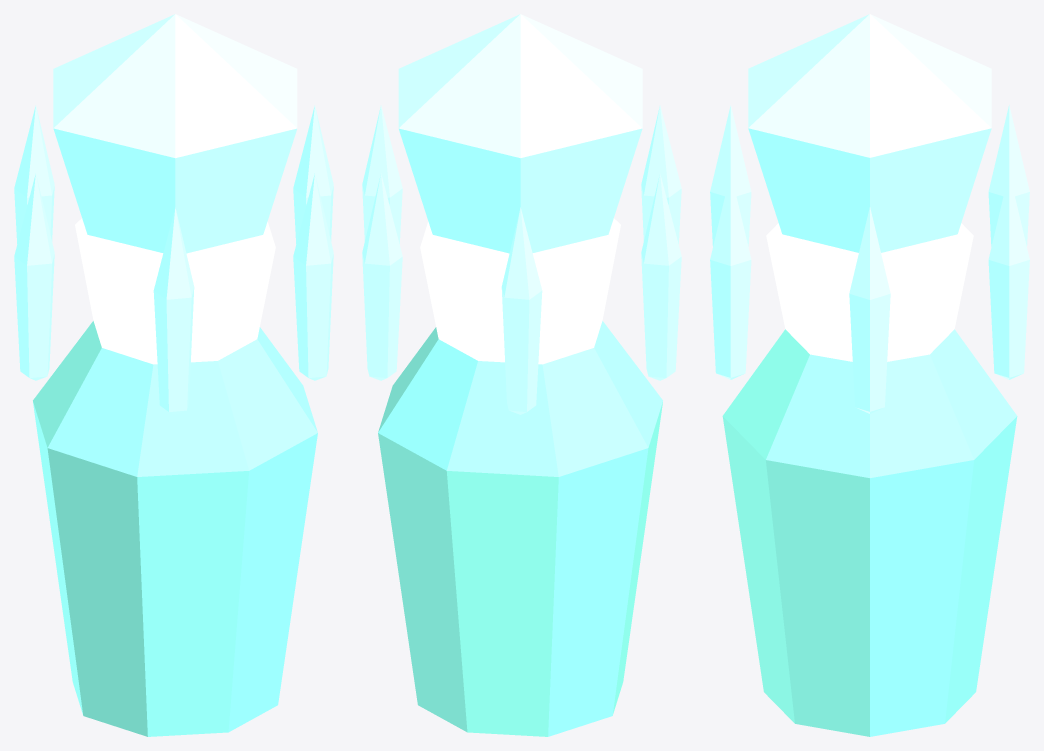
The model's file is deep-fracture-creature-FacetSentry-spirit.glb.
The picture shows the model from 3 angles, left to right: view 1: azimuth 30°, elevation 25°; view 2: azimuth 150°, elevation 25°; view 3: azimuth 270°, elevation 25°; orthographic projection.
Visible parts, largest first — view 1: pedestal, sensor, control-core, prong1, prong3, prong2, prong0, prong4; view 2: pedestal, sensor, control-core, prong5, prong3, prong4, prong0, prong2; view 3: pedestal, sensor, control-core, prong0, prong1, prong5, prong2, prong4.
Boxes of the visible parts, x1=… form: pedestal: x1=33, y1=321, x2=317, y2=736; sensor: x1=53, y1=14, x2=297, y2=253; control-core: x1=75, y1=218, x2=275, y2=364; prong1: x1=293, y1=173, x2=333, y2=380; prong3: x1=14, y1=173, x2=54, y2=380; prong2: x1=153, y1=207, x2=194, y2=414; prong0: x1=293, y1=105, x2=333, y2=243; prong4: x1=14, y1=105, x2=54, y2=243; pedestal: x1=378, y1=321, x2=662, y2=736; sensor: x1=398, y1=14, x2=642, y2=253; control-core: x1=420, y1=218, x2=620, y2=364; prong5: x1=362, y1=173, x2=402, y2=380; prong3: x1=641, y1=173, x2=681, y2=380; prong4: x1=501, y1=207, x2=542, y2=414; prong0: x1=362, y1=105, x2=402, y2=243; prong2: x1=641, y1=105, x2=681, y2=243; pedestal: x1=722, y1=329, x2=1017, y2=736; sensor: x1=748, y1=14, x2=991, y2=252; control-core: x1=766, y1=223, x2=973, y2=361; prong0: x1=849, y1=207, x2=890, y2=413; prong1: x1=710, y1=173, x2=751, y2=379; prong5: x1=988, y1=173, x2=1029, y2=379; prong2: x1=710, y1=105, x2=751, y2=246; prong4: x1=988, y1=105, x2=1029, y2=246.
Bounding box in the file's own units: 1.08 × 2.3 × 0.955.
